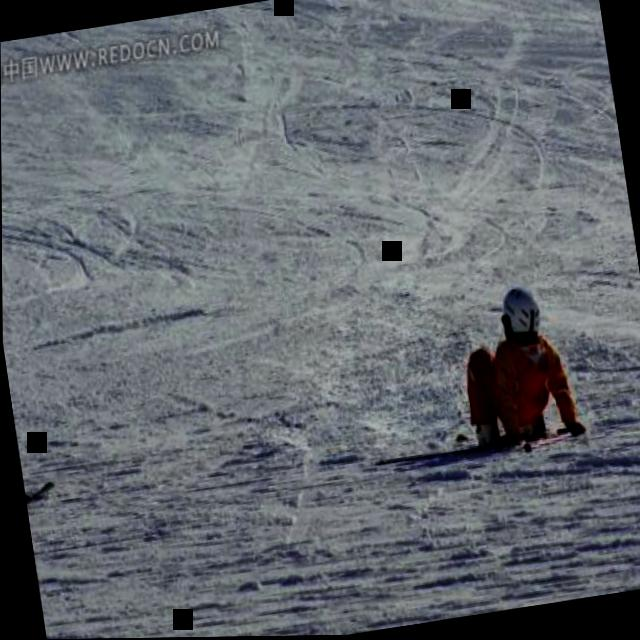Fall-Detected: (437, 265, 587, 468)
